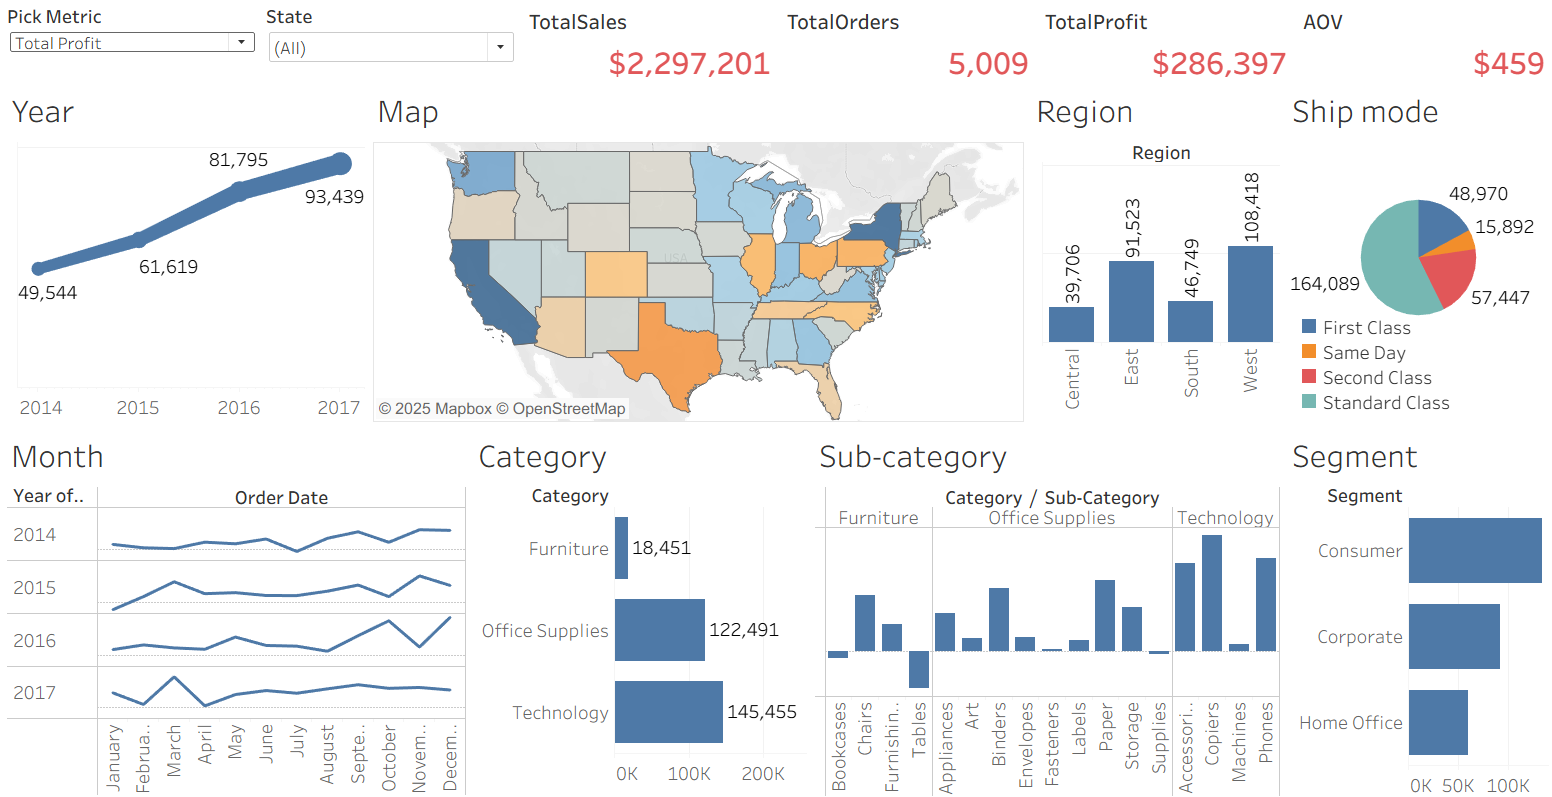

Layout of this report page (visuals, bound fields, positions):
{"tool":"tableau","page":{"name":"Overview","canvas":[1566,868],"ordinal":1},"visuals":[{"type":"text","box":[8,8,1550,50]},{"type":"parameter","param":"[Parameters].[Parameter 5]","box":[8,58,259,82]},{"type":"filter","title":"Map","param":"[federated.1he7qs112cn0321eepdp601evxoy].[none:State:nk]","box":[267,58,259,82]},{"type":"worksheet","title":"TotalSales","mark":"Automatic","box":[526,58,258,82]},{"type":"worksheet","title":"TotalOrders","mark":"Automatic","box":[784,58,258,82]},{"type":"worksheet","title":"TotalProfit","mark":"Automatic","box":[1042,58,258,82]},{"type":"worksheet","title":"AOV","mark":"Automatic","box":[1300,58,258,82]},{"type":"worksheet","title":"Year","mark":"Line","rows":["Calculation_1279022342674292740"],"cols":["Order Date"],"box":[8,140,366.1,345]},{"type":"worksheet","title":"Map","mark":"Multipolygon","box":[374.1,140,658.7,345]},{"type":"worksheet","title":"Region","mark":"Automatic","rows":["Calculation_1279022342674292740"],"cols":["Region"],"box":[1032.8,140,256.2,345]},{"type":"worksheet","title":"Ship mode","mark":"Pie","box":[1289,140,269,296]},{"type":"legend","title":"Ship mode","param":"[federated.1he7qs112cn0321eepdp601evxoy].[none:Ship Mode:nk]","box":[1302,373,158,126]},{"type":"worksheet","title":"Month","mark":"Line","rows":["Order Date","Calculation_1279022342674292740"],"cols":["Order Date"],"box":[8,485,467,375]},{"type":"worksheet","title":"Category","mark":"Automatic","rows":["Category"],"cols":["Calculation_1279022342674292740"],"box":[475,485,341,375]},{"type":"worksheet","title":"Sub-cat","mark":"Automatic","rows":["Calculation_1279022342674292740"],"cols":["Category","Sub-Category"],"box":[816,485,473,375]},{"type":"worksheet","title":"Segment","mark":"Automatic","rows":["Segment"],"cols":["Calculation_1279022342674292740"],"box":[1289,485,269,375]}]}

Visuals, with their boxes on the page's 1566x868 design canvas (x1, y1, x2, y2). These are canvas units, not pixel positions in the 1552x797 screenshot, which may show the page scaled, cropped or inside an application window:
text: detection(8, 8, 1558, 58)
parameter: detection(8, 58, 267, 140)
"Map" filter: detection(267, 58, 526, 140)
"TotalSales" worksheet: detection(526, 58, 784, 140)
"TotalOrders" worksheet: detection(784, 58, 1042, 140)
"TotalProfit" worksheet: detection(1042, 58, 1300, 140)
"AOV" worksheet: detection(1300, 58, 1558, 140)
"Year" worksheet (Line marks): detection(8, 140, 374, 485)
"Map" worksheet (Multipolygon marks): detection(374, 140, 1033, 485)
"Region" worksheet: detection(1033, 140, 1289, 485)
"Ship mode" worksheet (Pie marks): detection(1289, 140, 1558, 436)
"Ship mode" legend: detection(1302, 373, 1460, 499)
"Month" worksheet (Line marks): detection(8, 485, 475, 860)
"Category" worksheet: detection(475, 485, 816, 860)
"Sub-cat" worksheet: detection(816, 485, 1289, 860)
"Segment" worksheet: detection(1289, 485, 1558, 860)
